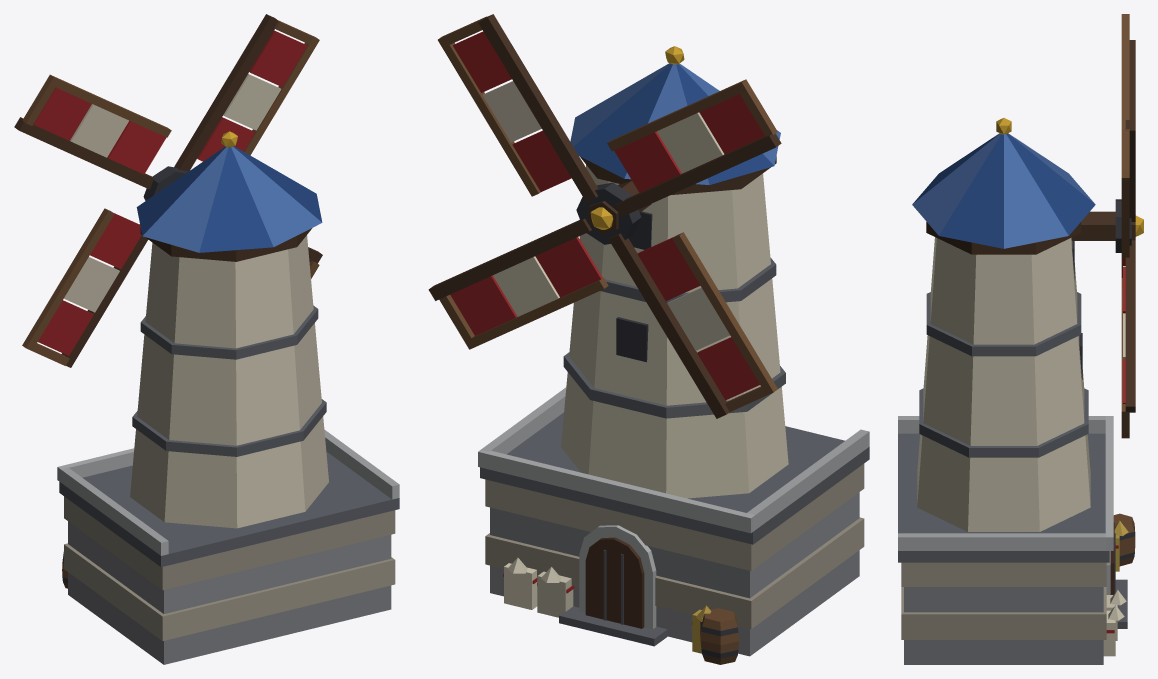
File: Decor_KnightCastle_Windmill.fbx
The picture shows the model from 3 angles, left to right: view 1: azimuth 30°, elevation 25°; view 2: azimuth 150°, elevation 25°; view 3: azimuth 270°, elevation 25°; orthographic projection. The views are drawn at different scales.
Parts seen in each view (by area): view 1: Windmill_Body; view 2: Windmill_Body; view 3: Windmill_Body.
Part boxes in pixels (<box>): Windmill_Body: <box>14,14,399,664</box>; Windmill_Body: <box>428,14,869,664</box>; Windmill_Body: <box>898,14,1143,664</box>.
Size of the model in its own units: 17.3 by 28.15 by 11.65.
